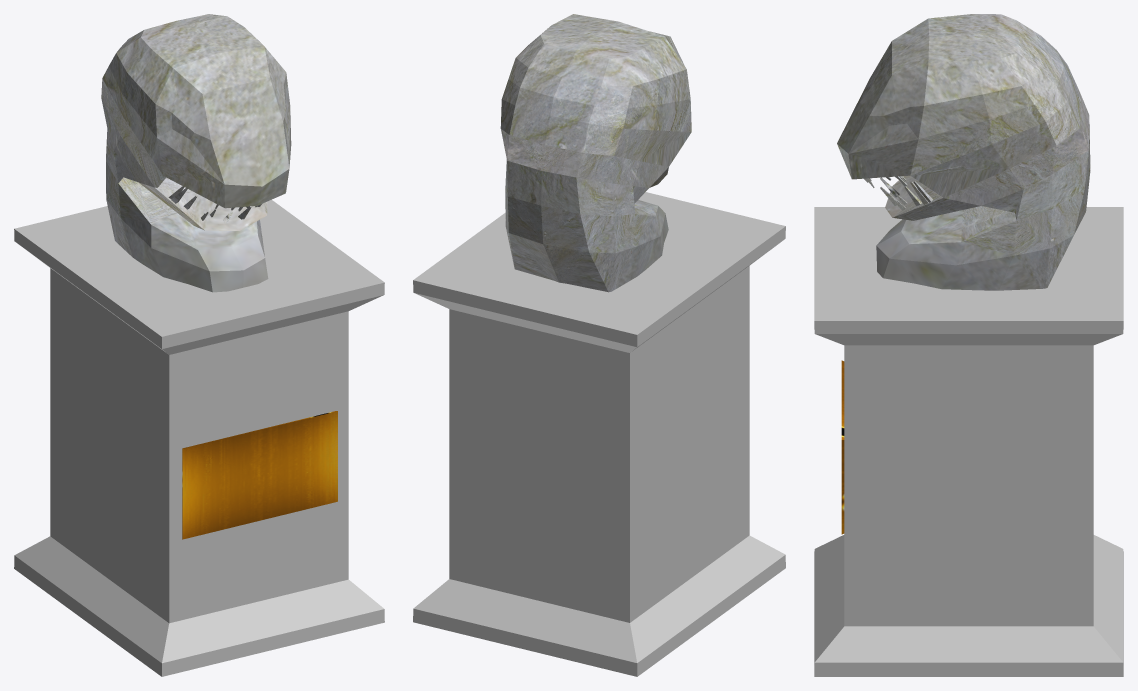
File: Estatua.fbx
The picture shows the model from 3 angles, left to right: view 1: azimuth 30°, elevation 25°; view 2: azimuth 150°, elevation 25°; view 3: azimuth 270°, elevation 25°; orthographic projection. The views are drawn at different scales.
Parts seen in each view (by area): view 1: Estatua.002, Cube; view 2: Estatua.002, Cube; view 3: Estatua.002, Cube.
Part boxes in pixels (box(x1,y1,x2,y2)): Estatua.002: box(14, 199, 384, 676); Cube: box(101, 14, 291, 292); Estatua.002: box(413, 192, 785, 676); Cube: box(500, 14, 691, 292); Estatua.002: box(814, 207, 1123, 676); Cube: box(837, 14, 1090, 290).
Bounding box in the file's own units: 64.96 × 156 × 74.57.
